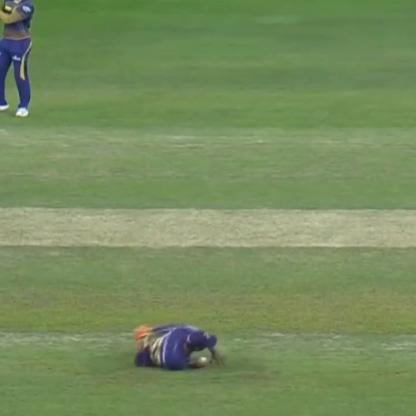ball: (198, 353, 210, 365)
